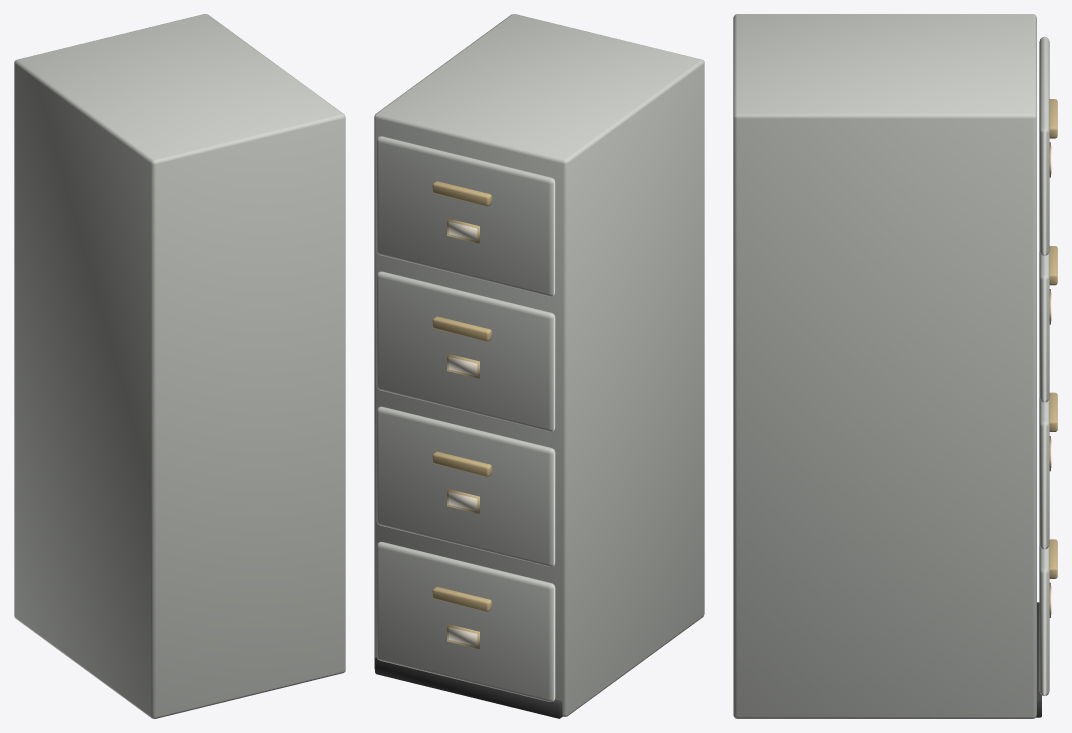
The model's file is filing_cabinet.glb.
3 views of the same model, side by side, from view 1: azimuth 30°, elevation 25°; view 2: azimuth 150°, elevation 25°; view 3: azimuth 270°, elevation 25° (orthographic). The views are drawn at different scales.
Parts seen in each view (by area): view 1: filing_cabinet; view 2: filing_cabinet; view 3: filing_cabinet.
Boxes of the visible parts, x1,y1,x2,y2 form: filing_cabinet: (14,14,345,718); filing_cabinet: (374,14,704,718); filing_cabinet: (733,14,1057,718).
Bounding box in the file's own units: 0.48 × 1.32 × 0.641.
